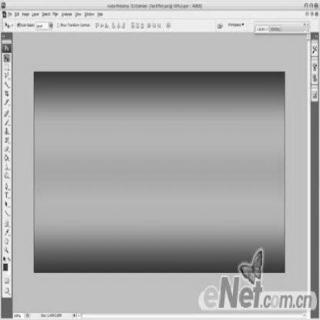other: (40, 98, 276, 216)
